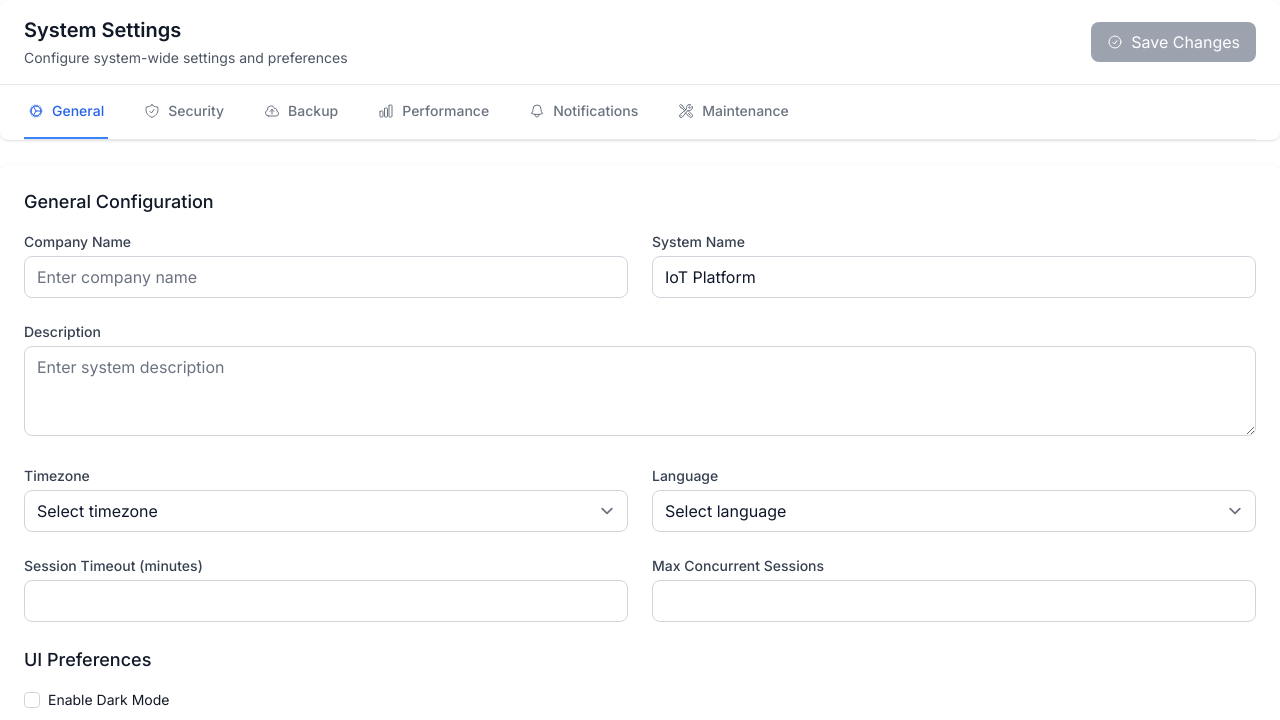
Test: SystemSettings › shows unsaved changes indicator
Make a change to trigger unsaved state
Step 1. Replace the text in the field showing "IoT Platform" with "New IoT Platform" → (954, 277), box [652,256,1256,298]
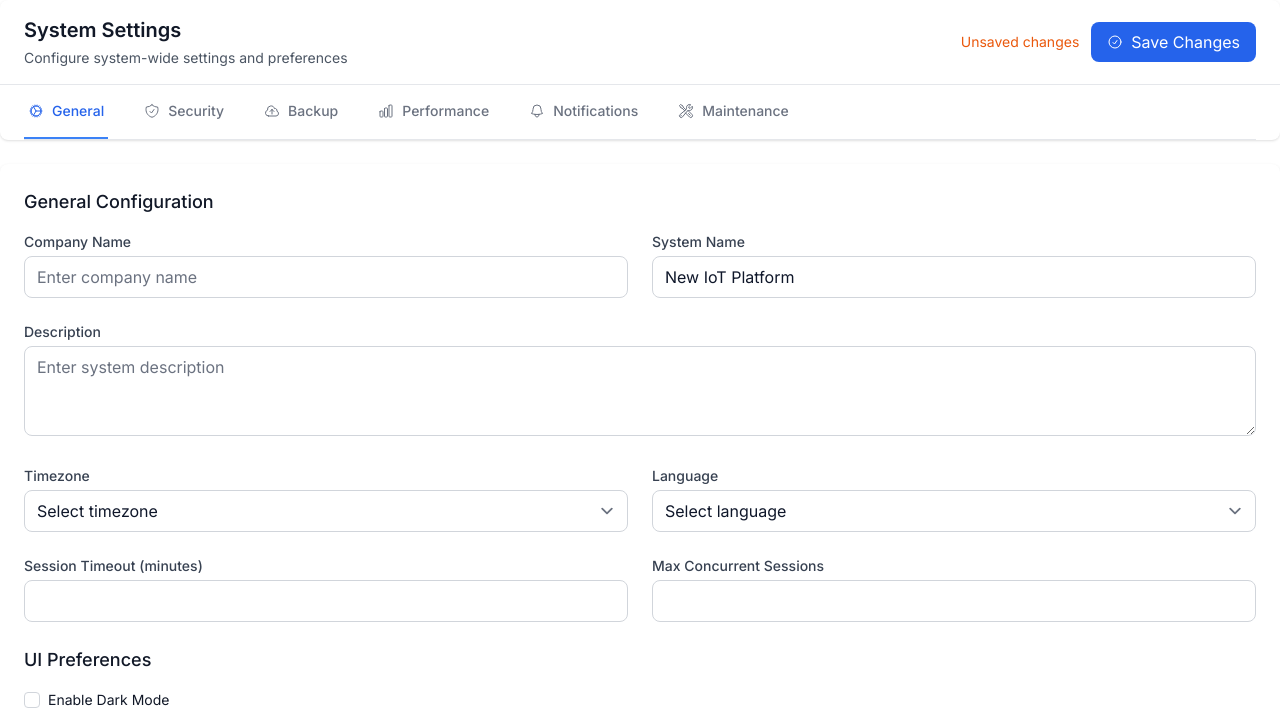
Expected: the text "Unsaved changes" is shown, [961,32,1079,52]
